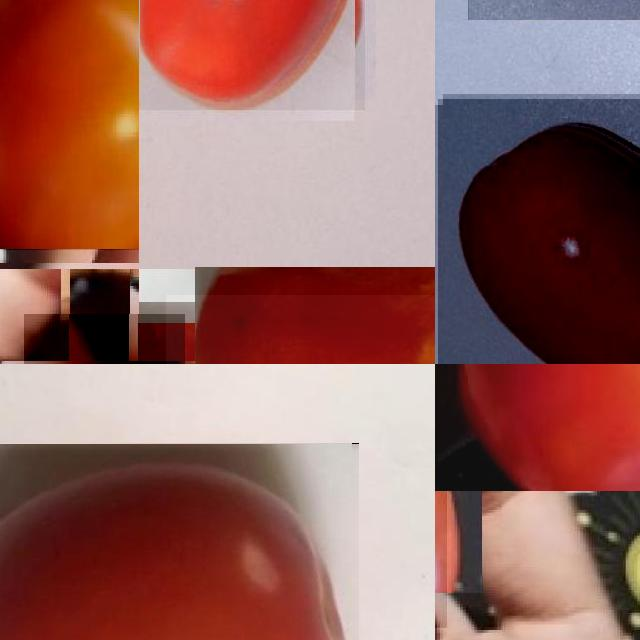0: (0, 0, 139, 249), (139, 0, 365, 110), (24, 314, 184, 364)
1: (166, 295, 435, 364)
Fresh Tomato: (0, 443, 359, 640), (437, 99, 640, 364), (435, 364, 640, 491)
